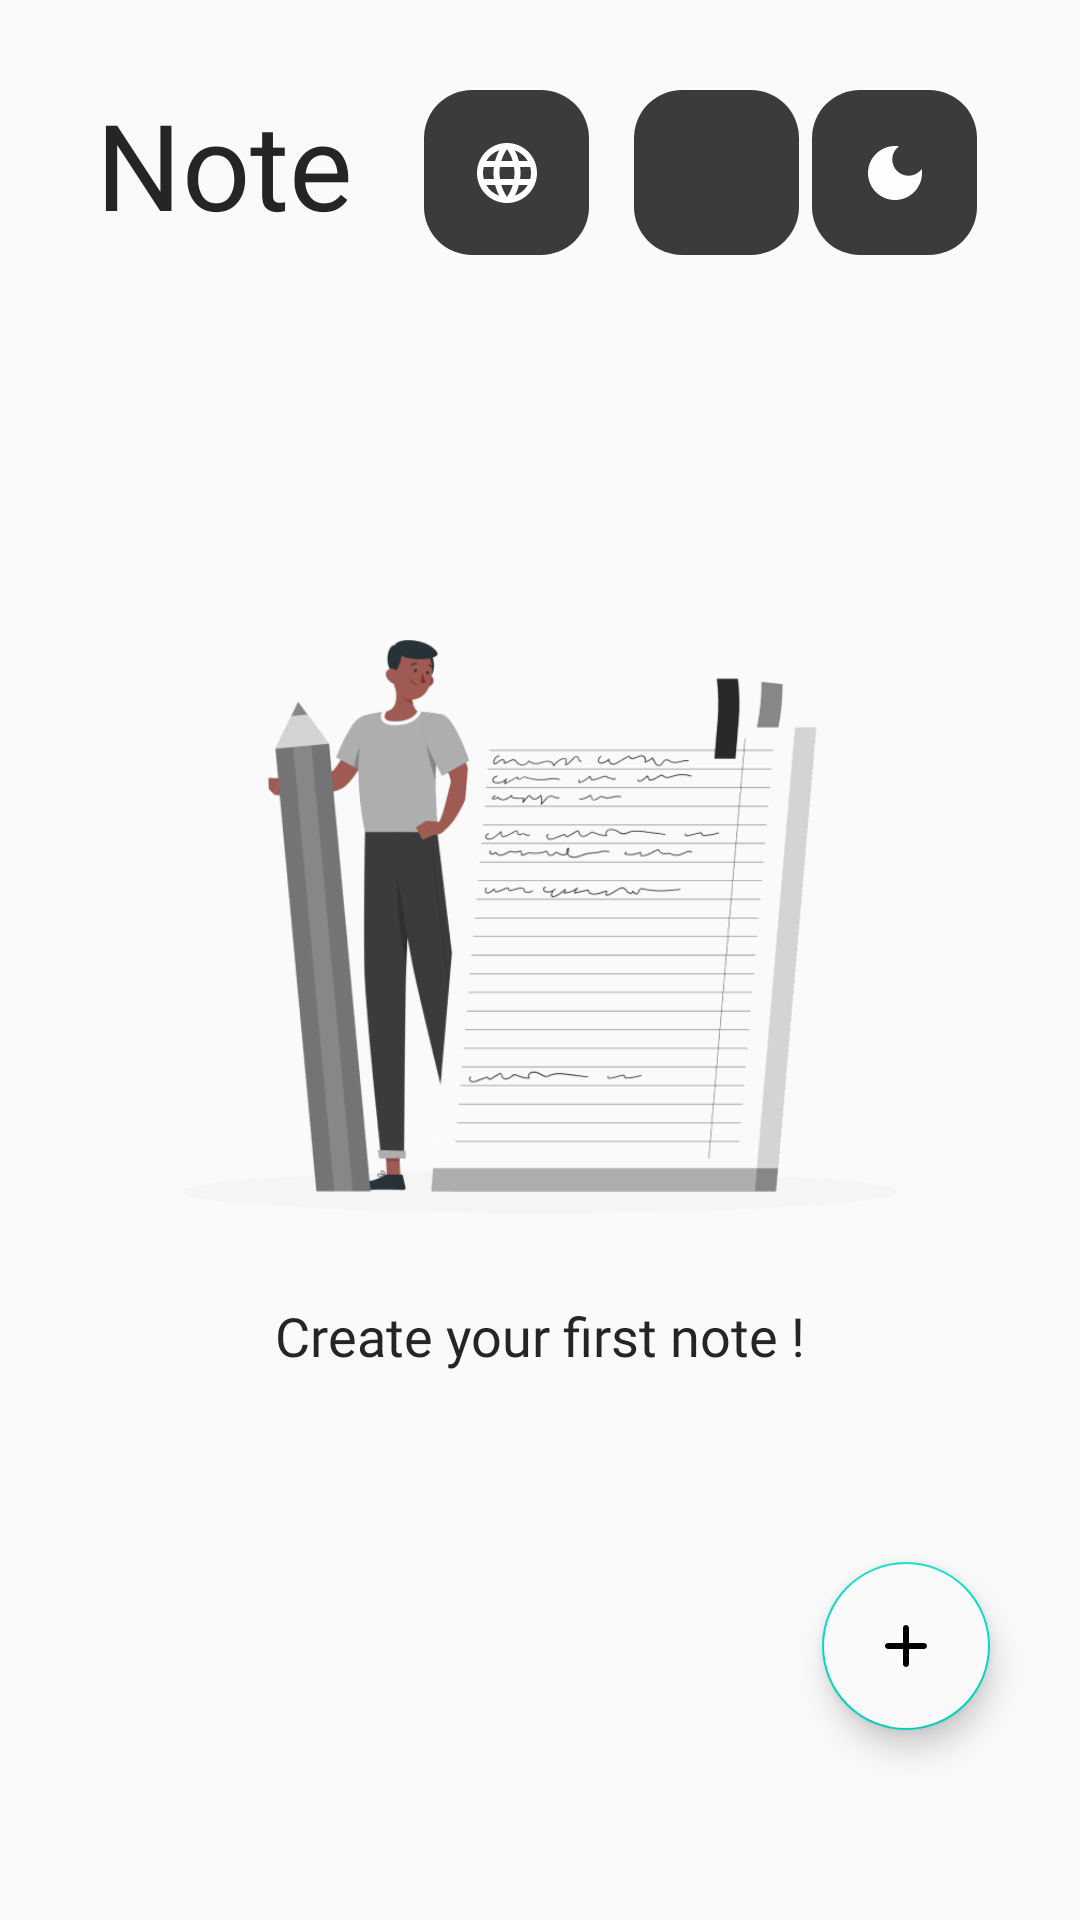

Icon click points for this 1080*1920 phone screenshot, format [x,y]:
add: [906,1646]
language: [506,172]
mode: [894,172]
